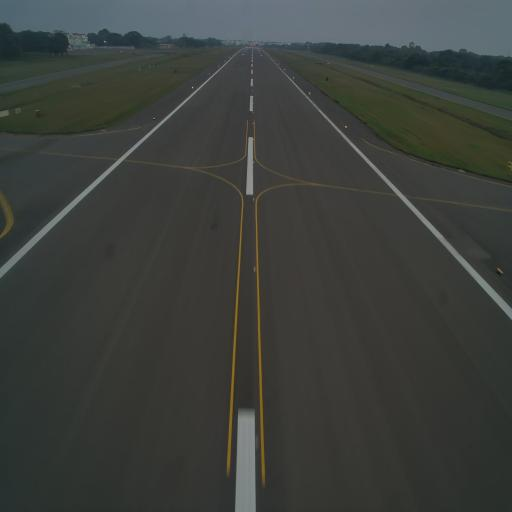on: (493, 258, 505, 280), (253, 424, 260, 456), (251, 195, 256, 205), (253, 263, 257, 274), (251, 135, 256, 143), (343, 124, 349, 130), (152, 115, 157, 122), (251, 120, 255, 126), (252, 157, 254, 167)
